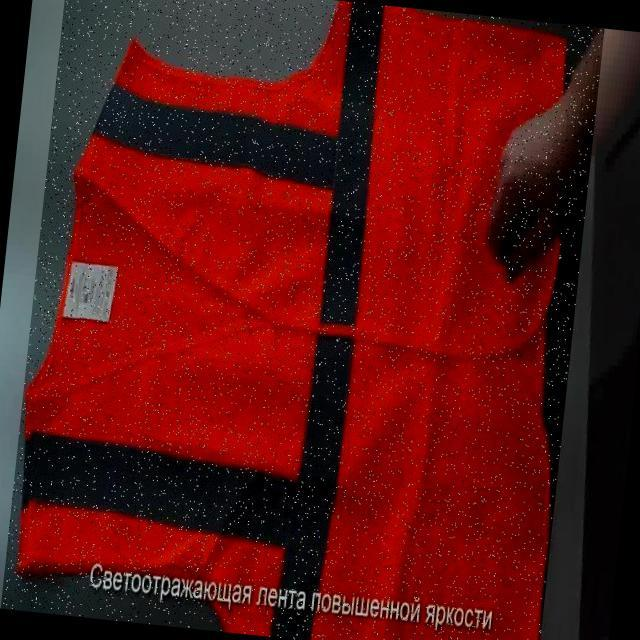Safety Vest: (0, 0, 604, 640)
bare-arms: (480, 105, 589, 290)
